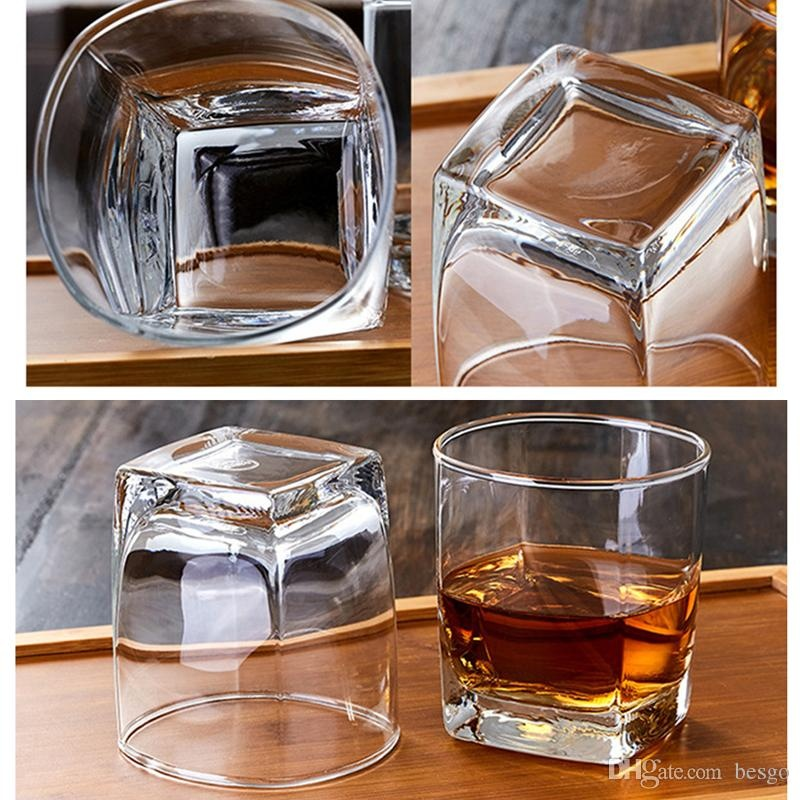whiskey: (433, 418, 715, 754)
